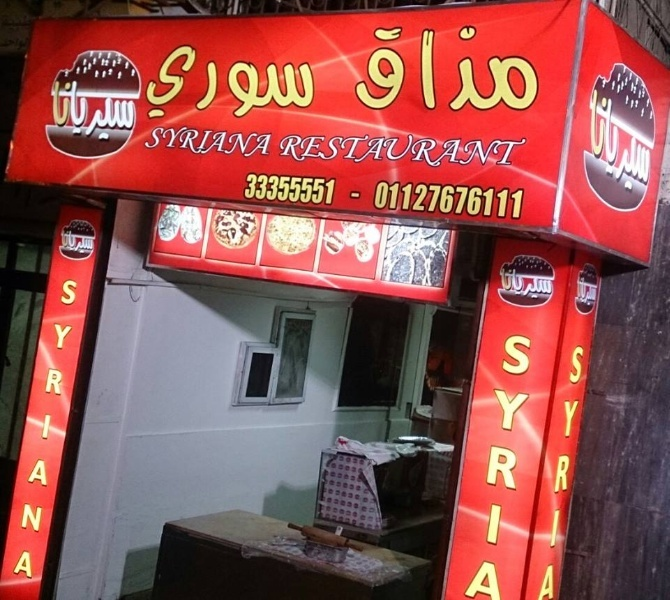text: (17, 274, 32, 584), (33, 274, 48, 584), (49, 274, 64, 584), (65, 274, 80, 584), (513, 328, 528, 598), (561, 342, 576, 600), (577, 342, 590, 600), (529, 328, 539, 598), (503, 328, 512, 598), (593, 76, 608, 201), (609, 76, 624, 201), (625, 76, 640, 201), (641, 76, 654, 201), (369, 23, 384, 116), (385, 23, 400, 116), (401, 23, 416, 116), (417, 23, 432, 116), (433, 23, 448, 116), (449, 23, 464, 116), (465, 23, 480, 116), (481, 23, 496, 116), (497, 23, 512, 116), (513, 23, 528, 116), (529, 23, 544, 116), (161, 40, 176, 130), (177, 40, 192, 130), (193, 40, 208, 130), (209, 40, 224, 130), (225, 40, 240, 130), (241, 40, 256, 130), (257, 40, 272, 130), (273, 40, 288, 130), (289, 40, 304, 130), (305, 40, 320, 130), (354, 23, 368, 116), (12, 274, 16, 584), (556, 342, 560, 600), (65, 78, 80, 145), (81, 78, 96, 145), (97, 78, 112, 145), (113, 78, 128, 145), (149, 40, 160, 130), (81, 274, 84, 584), (51, 78, 64, 145), (129, 78, 142, 145), (385, 181, 400, 221), (401, 181, 416, 221), (417, 181, 432, 221), (433, 181, 448, 221), (449, 181, 464, 221), (465, 181, 480, 221), (481, 181, 496, 221), (497, 181, 512, 221), (289, 133, 304, 171), (305, 133, 320, 171), (321, 133, 336, 171), (337, 133, 352, 171), (353, 133, 368, 171), (369, 133, 384, 171), (385, 133, 400, 171), (401, 133, 416, 171), (417, 133, 432, 171), (433, 133, 448, 171), (449, 133, 464, 171), (465, 133, 480, 171), (481, 133, 496, 171), (497, 133, 512, 171), (513, 133, 528, 171), (513, 181, 527, 221), (161, 125, 176, 160), (177, 125, 192, 160), (193, 125, 208, 160), (209, 125, 224, 160), (225, 125, 240, 160), (241, 125, 256, 160), (257, 125, 272, 160), (257, 173, 272, 208), (273, 173, 288, 208), (289, 173, 304, 208), (305, 173, 320, 208), (321, 173, 336, 208), (513, 268, 528, 303), (529, 268, 544, 303), (588, 76, 592, 201), (577, 277, 592, 310), (498, 268, 512, 303), (276, 133, 288, 171), (321, 40, 326, 130), (545, 268, 557, 303), (65, 229, 80, 256), (81, 229, 96, 256), (377, 181, 384, 221), (152, 125, 160, 160), (248, 173, 256, 208), (593, 277, 599, 310), (353, 187, 362, 201), (60, 229, 64, 256), (545, 23, 546, 116), (273, 125, 275, 160), (574, 277, 576, 310), (348, 187, 352, 201), (529, 133, 530, 171), (337, 173, 338, 208), (97, 229, 98, 256)
